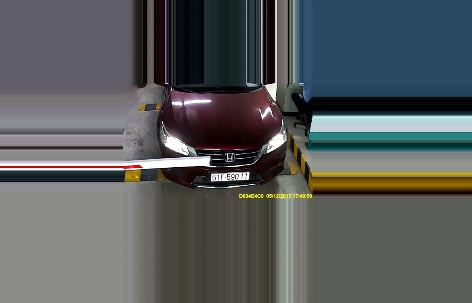plate: (209, 167, 253, 185)
